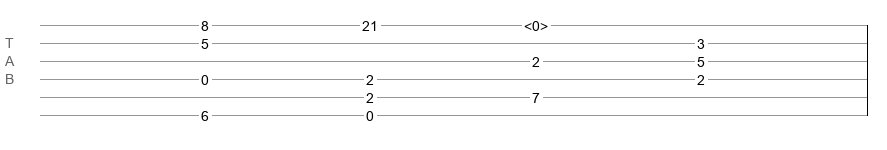0: (201, 72, 209, 82), (366, 108, 374, 118)
2: (366, 90, 374, 100), (366, 72, 374, 82), (532, 54, 540, 64), (697, 72, 705, 82)
21: (362, 18, 378, 28)
3: (697, 36, 705, 46)
5: (201, 36, 209, 46), (697, 54, 705, 64)
6: (201, 108, 209, 118)
7: (532, 90, 540, 100)
8: (201, 18, 209, 28)
harmonic: (524, 18, 548, 28)
